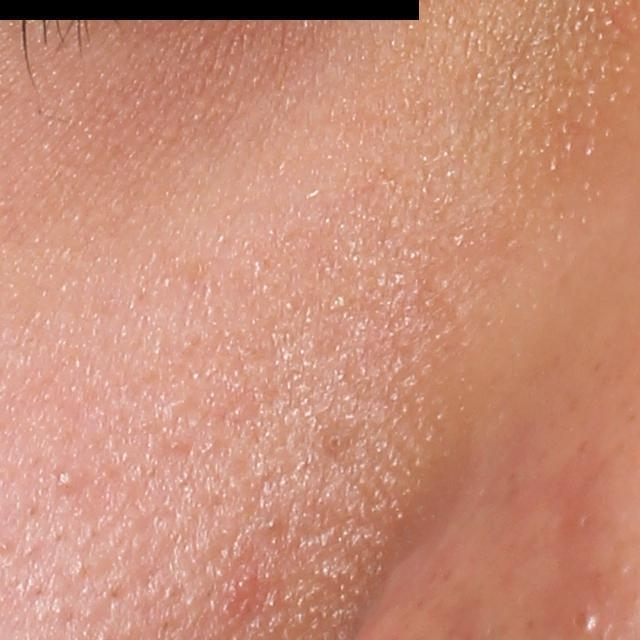comedo: (53, 467, 89, 497), (323, 431, 346, 453)
